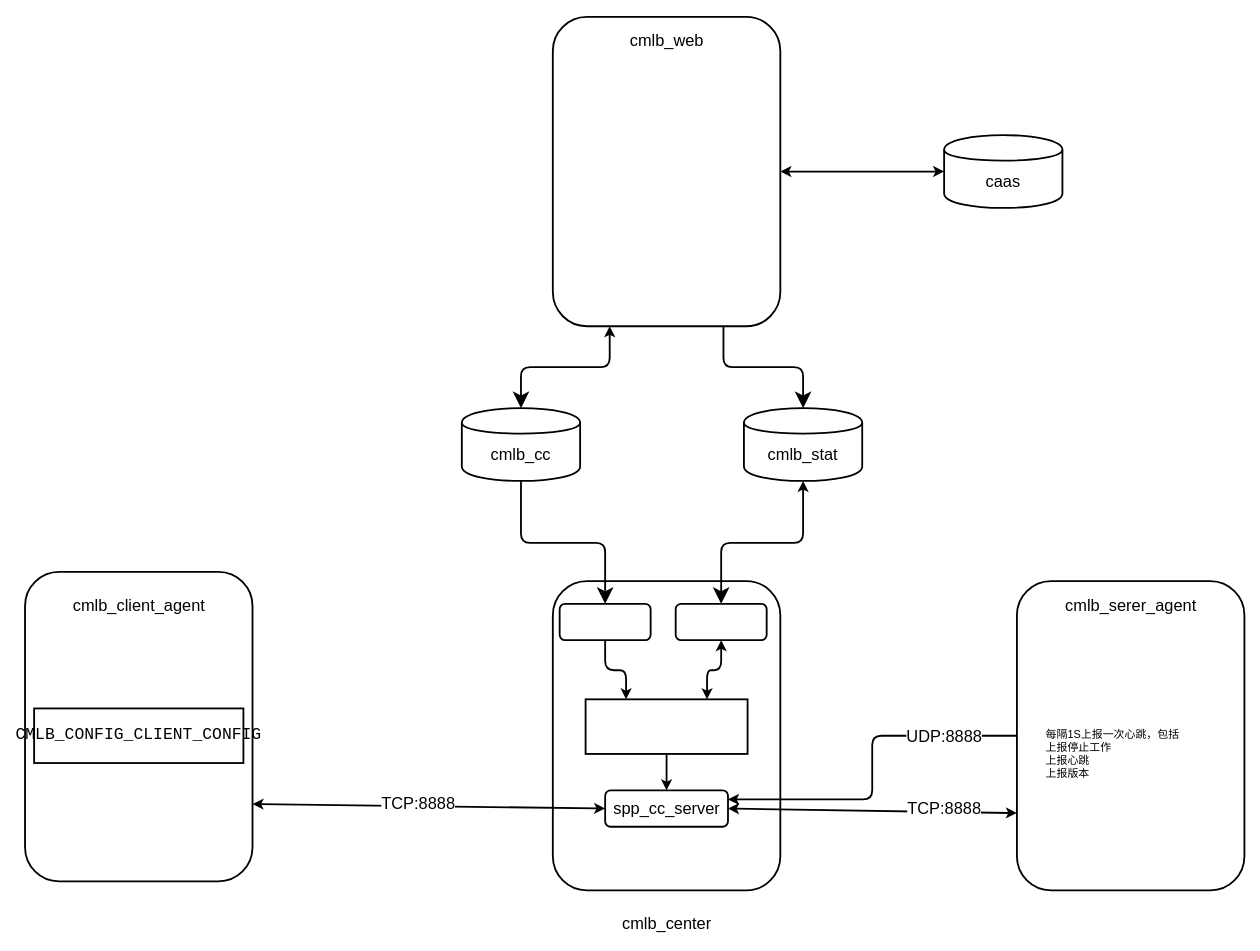
Image size: 1260x951. Some labels were removed from this diagram. Here are the shapes that lost their labels. From the top down, the centre of each, then its label:
At (x=604, y=621): "load".
At (x=720, y=621): "scan".
At (x=666, y=726): "ConfigCenterShm".
